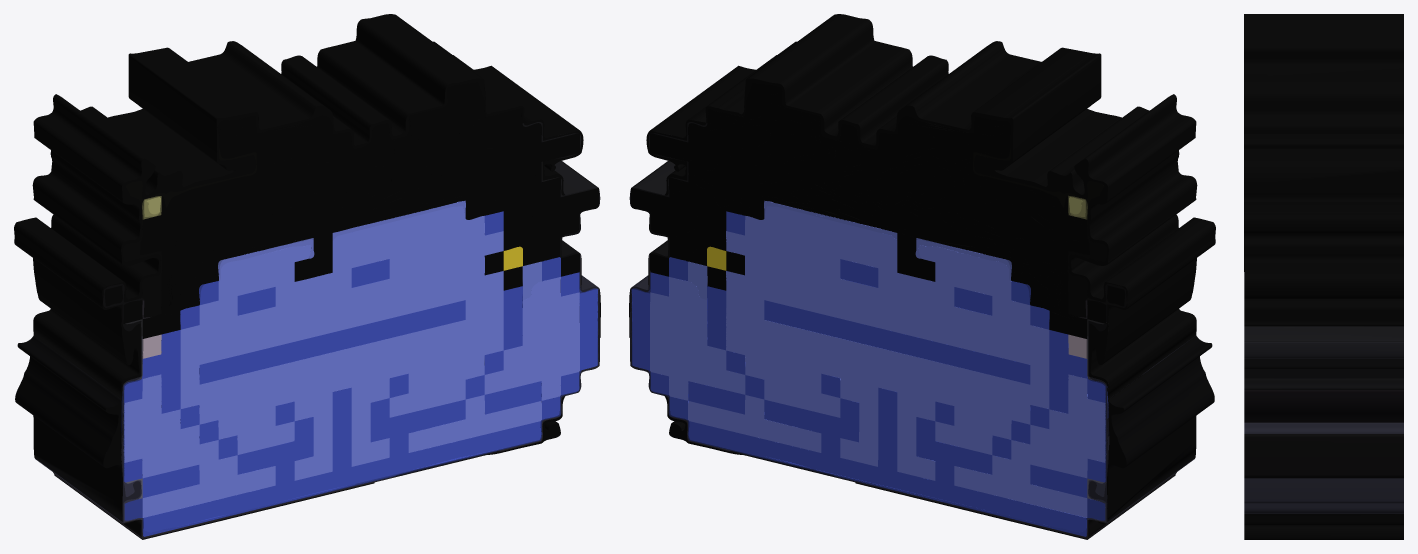
Rendered from Toadz_2756.glb.
3 views of the same model, side by side, from view 1: azimuth 30°, elevation 25°; view 2: azimuth 150°, elevation 25°; view 3: azimuth 270°, elevation 25° (orthographic). The views are drawn at different scales.
Visible parts, largest first — view 1: Curve; view 2: Curve; view 3: Curve.
Boxes of the visible parts, left/top/right/bottom form: Curve: left=14, top=14, right=600, bottom=539; Curve: left=629, top=14, right=1215, bottom=539; Curve: left=1244, top=14, right=1403, bottom=539.
Bounding box in the file's own units: 3.26 × 2.53 × 1.
